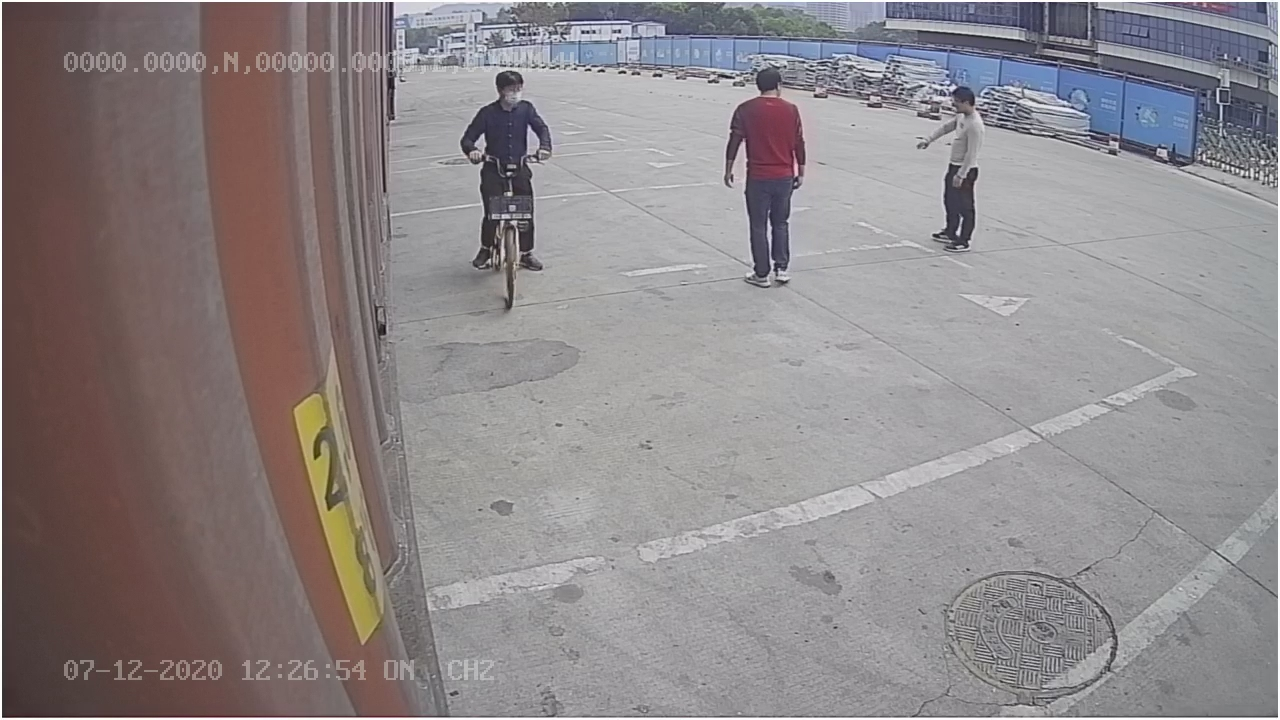person: (722, 65, 811, 289)
